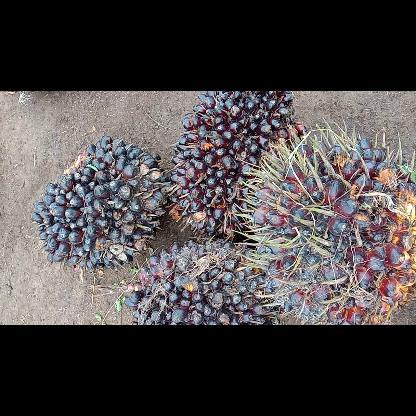TBS mentah: (249, 130, 415, 324), (167, 91, 308, 243), (29, 134, 174, 278), (122, 236, 286, 324)
